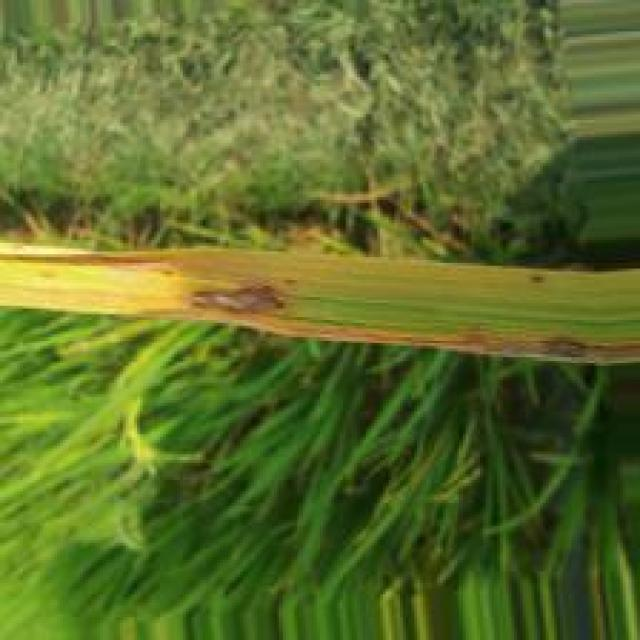Rice Tungro: (190, 281, 640, 363)
